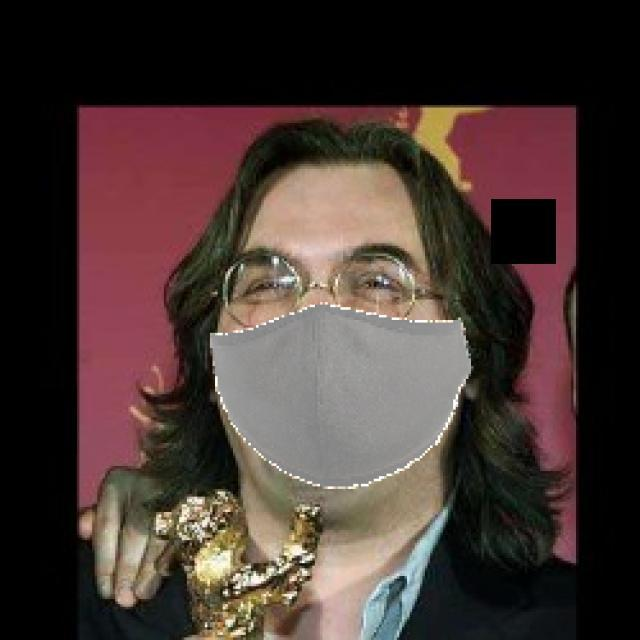cloth: (206, 160, 474, 494)
